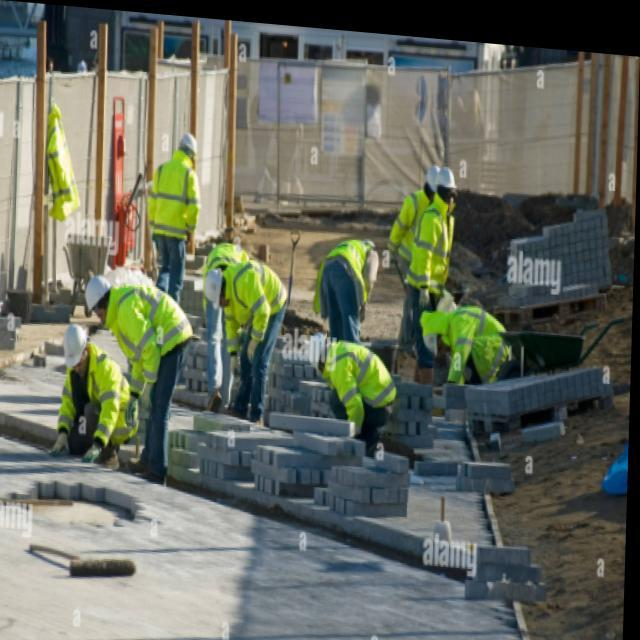hard_hat: (62, 323, 92, 378), (83, 273, 111, 321), (422, 313, 448, 364), (202, 265, 229, 314), (308, 329, 328, 378), (436, 165, 458, 205), (424, 164, 444, 201), (179, 131, 200, 165)
vest: (102, 276, 197, 401), (54, 340, 143, 449), (417, 302, 513, 386), (324, 338, 399, 437), (222, 254, 289, 360), (145, 147, 204, 246), (405, 190, 456, 296), (314, 236, 372, 322), (388, 187, 438, 271), (202, 239, 249, 313)
